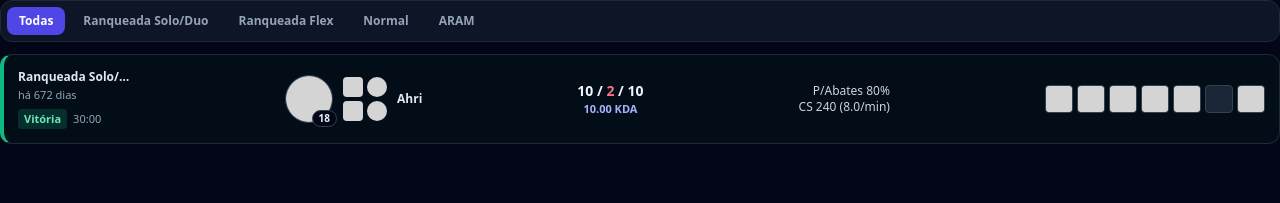
Test case: MatchHistory › HIST-06 shows Nenhuma partida encontrada when tab is empty
Step 1. Click the tab with test id "history-tab-aram" → {"x": 457, "y": 21}, box [427, 7, 486, 35]
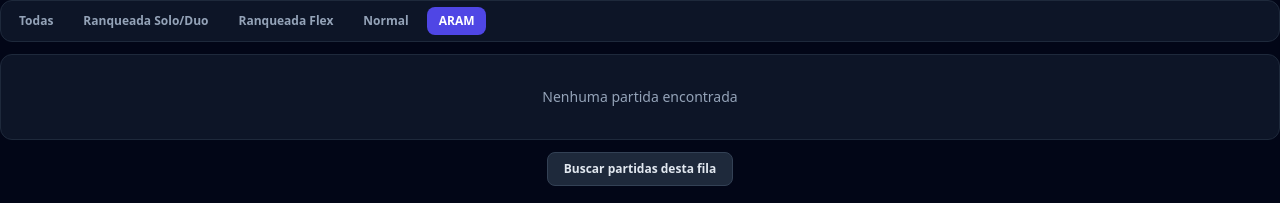
expect the text with test id "history-empty" reads "Nenhuma partida encontrada": met, box [542, 87, 738, 106]
